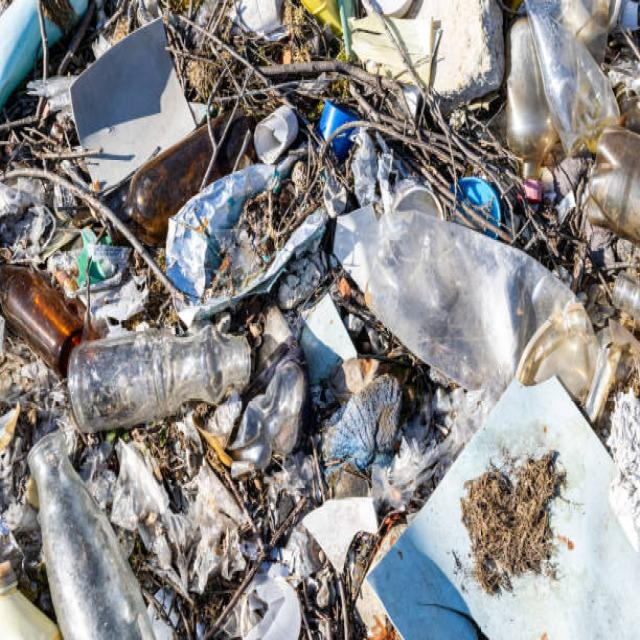glass: (15, 432, 165, 638), (75, 315, 246, 436), (4, 260, 70, 382)
